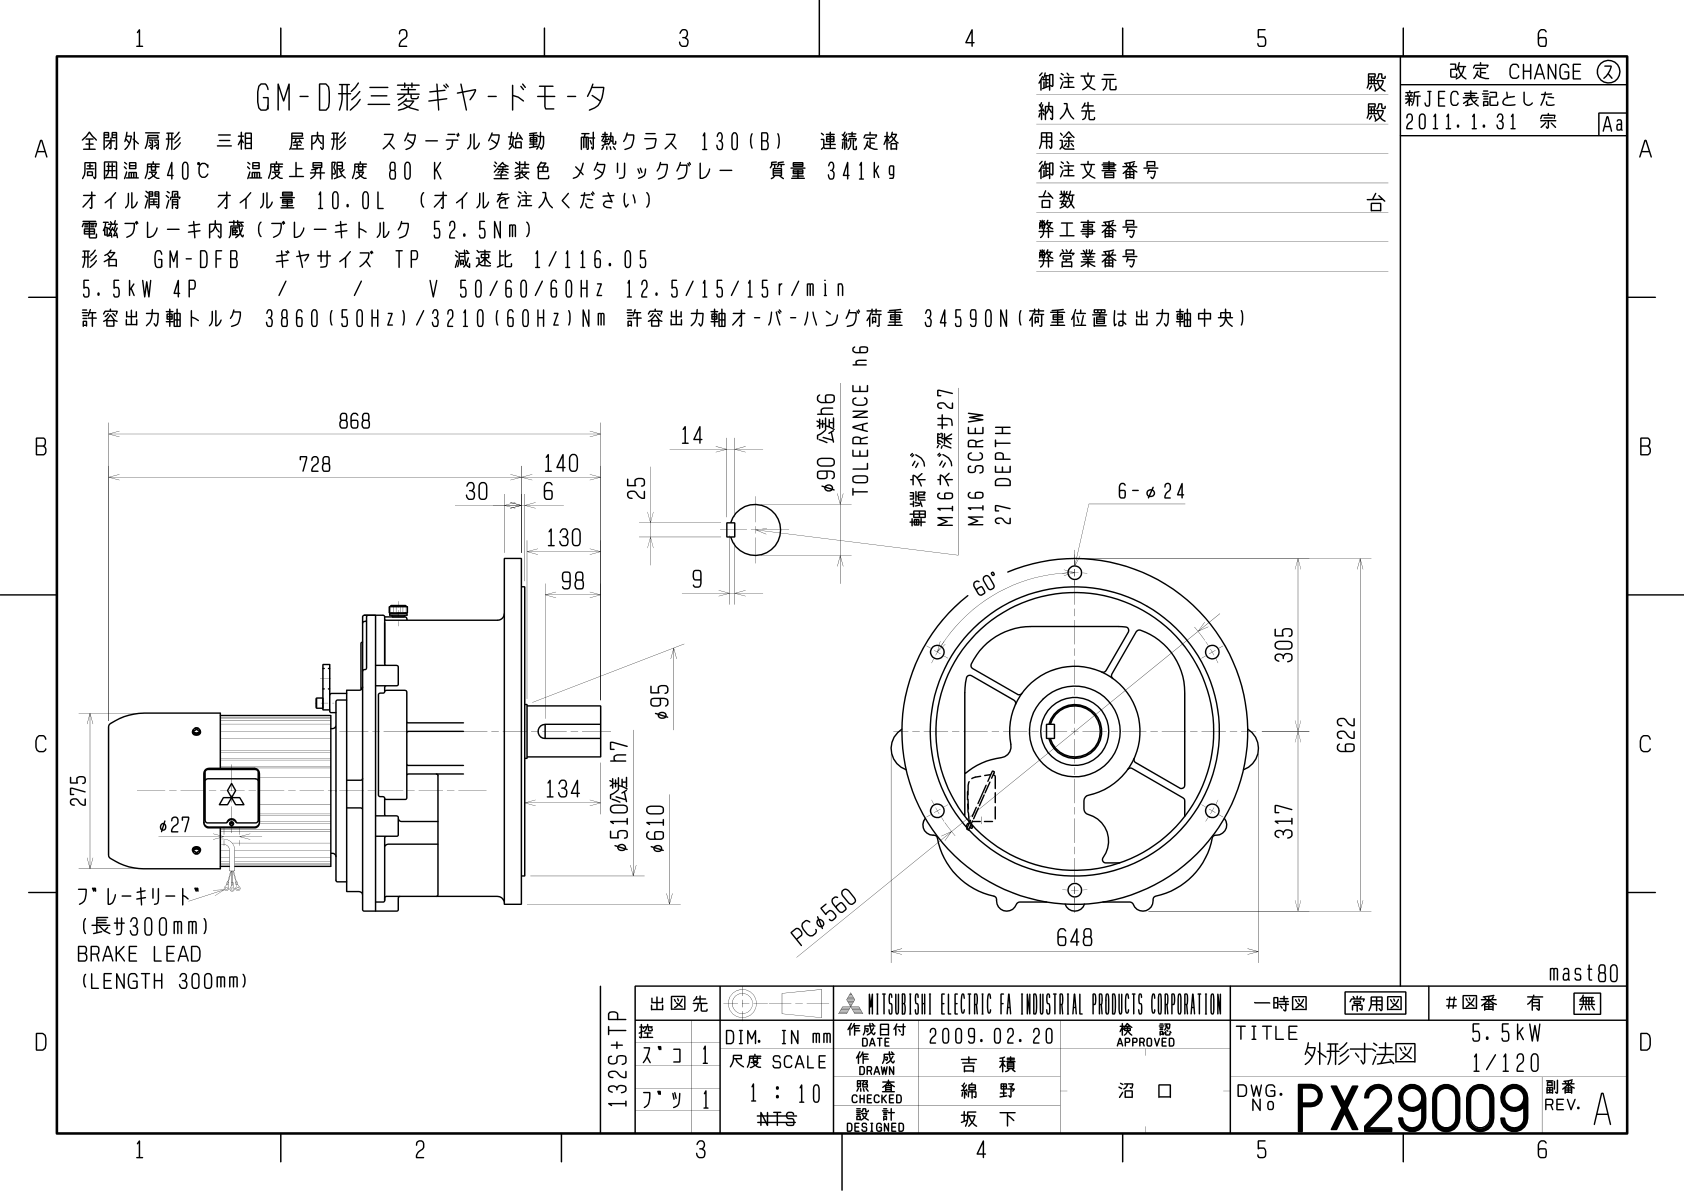GM_D_屋内＿三相_フランジ: (70, 335, 1386, 973)
